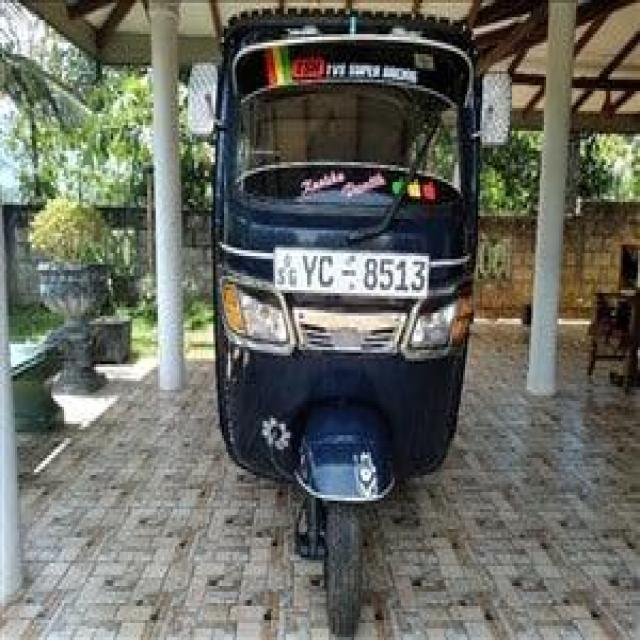license-plate: (271, 239, 427, 296)
